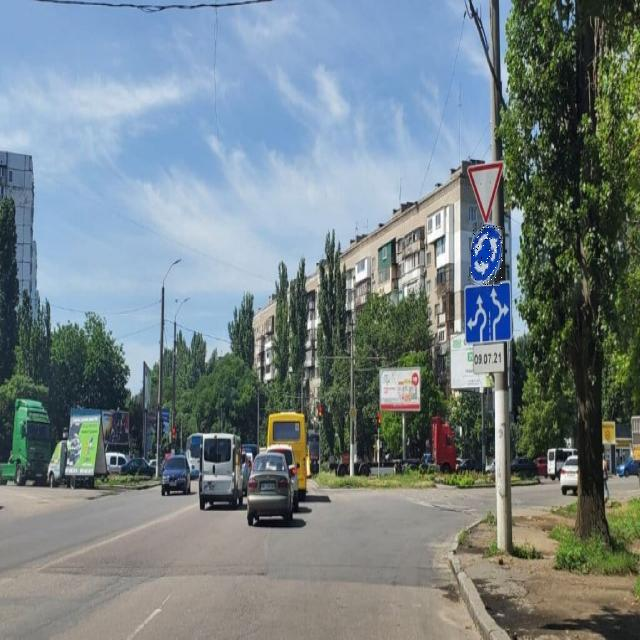roundabout: (471, 224, 503, 286)
